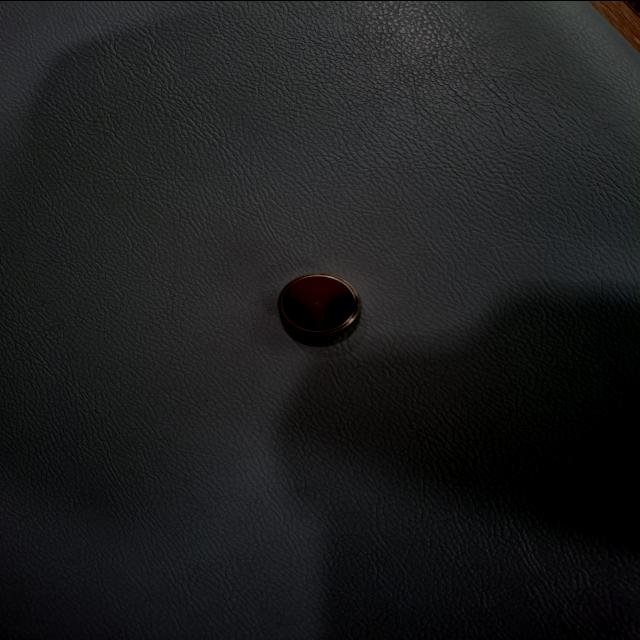COIN: (364, 372, 444, 430)
